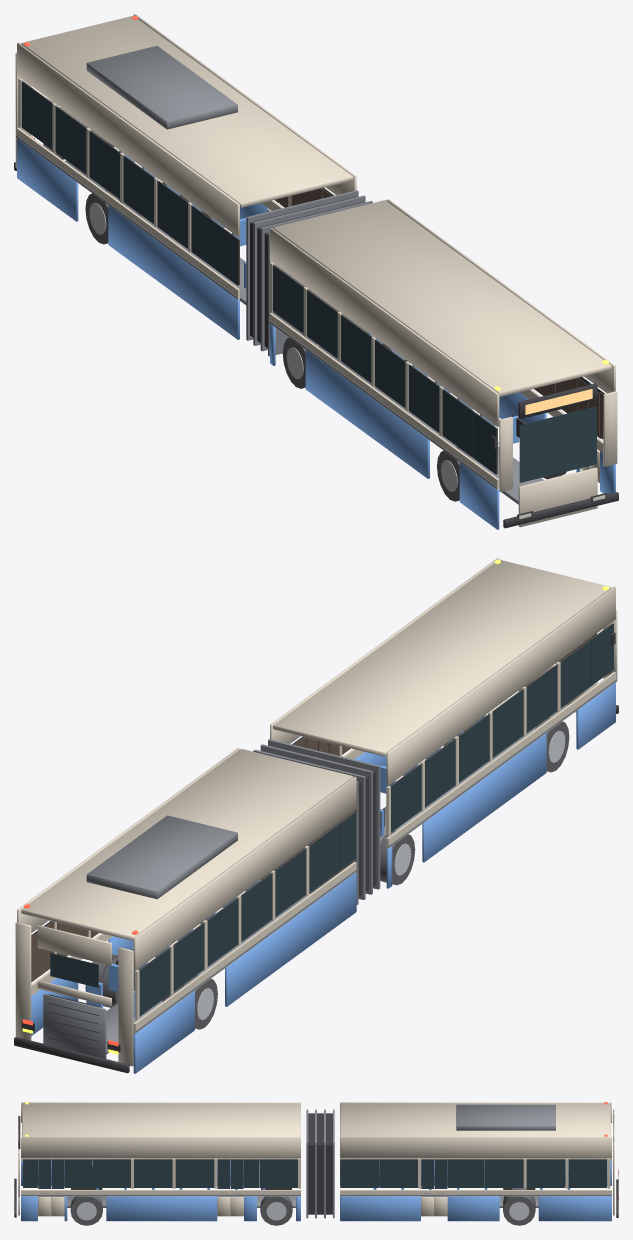
Rendered from Bus_City60_24.fbx.
3 views of the same model, one above another, from view 1: azimuth 30°, elevation 25°; view 2: azimuth 150°, elevation 25°; view 3: azimuth 270°, elevation 25° (orthographic). The views are drawn at different scales.
Visible parts, largest first — view 1: LOD0; view 2: LOD0; view 3: LOD0.
Part boxes in pixels (<box>): LOD0: <box>14,14,618,529</box>; LOD0: <box>14,558,618,1073</box>; LOD0: <box>14,1102,618,1225</box>.
Size of what is drawn, in the model's own units: 264 by 320 by 1855.
